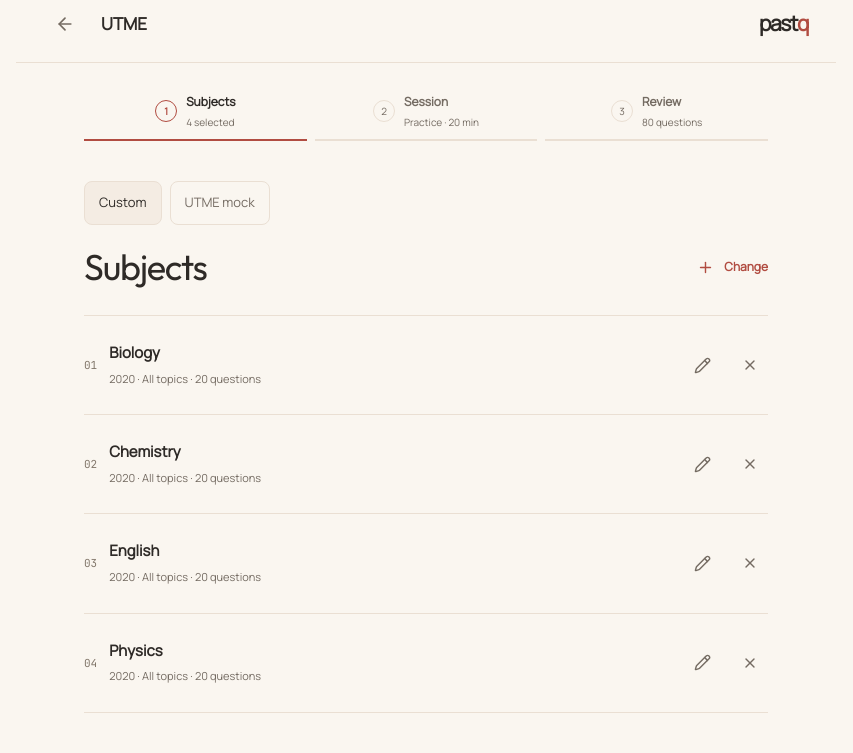
Scenario: verified UTME preset › does not silently pass a short paper as a full mock
The image size is (853, 753).
Click the button "UTME mock": (220, 203) [170,181,270,225]
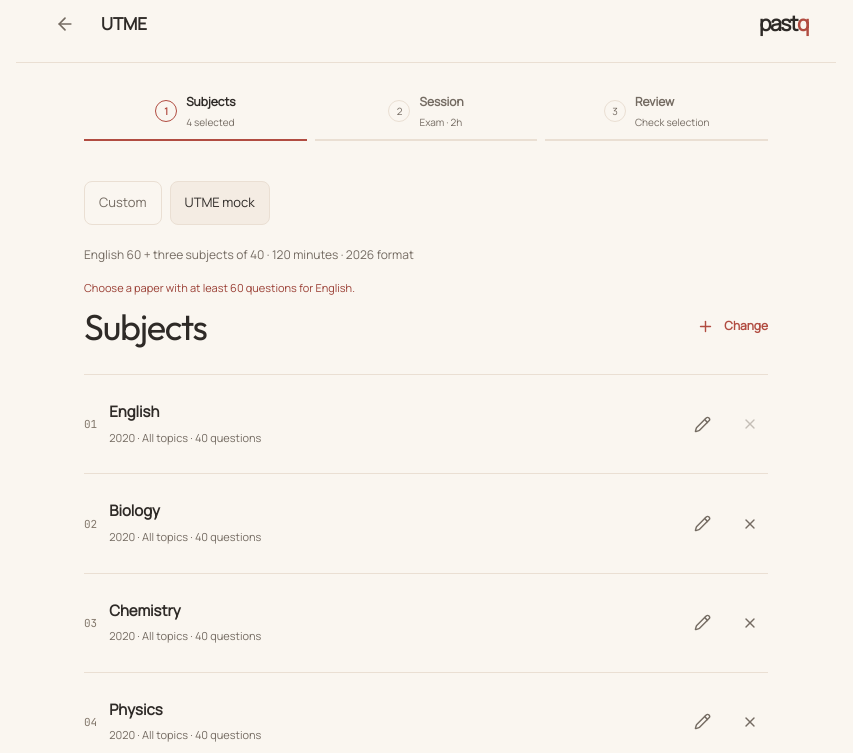
Expected: the text "at least 60 questions for English" is shown, [84,280,355,295]
Click the button "3 Review Check selection": (657, 112) [545,83,768,141]
(page scrolled)
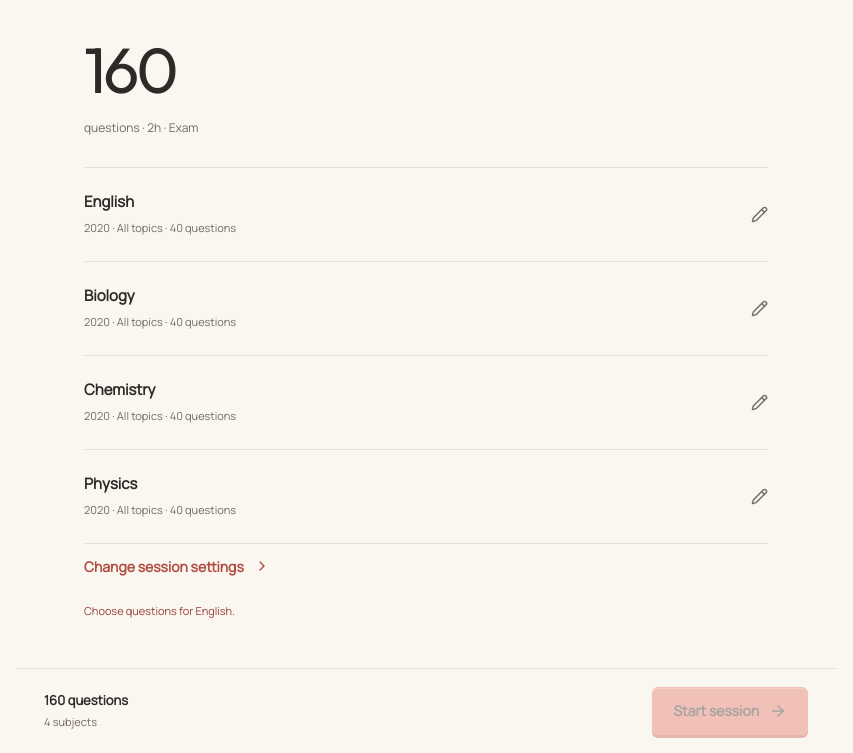
Expected: the button "Start session" is disabled, [652,687,808,735]
